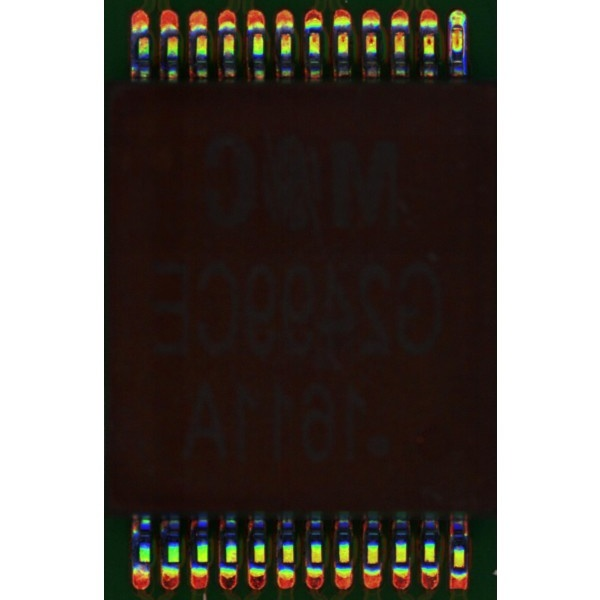Bad_qiaojiao: (462, 26, 466, 60)
